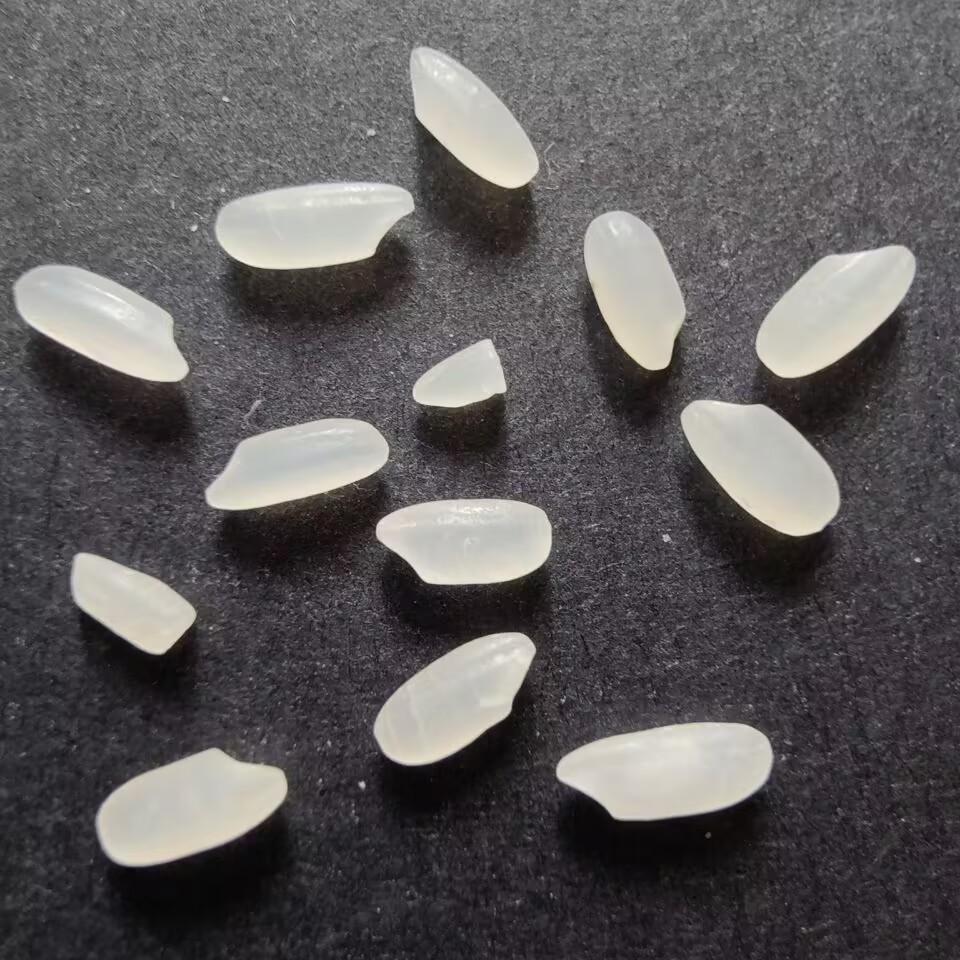broken: (66, 550, 201, 659), (408, 332, 511, 410)
rice: (549, 716, 777, 829), (92, 743, 294, 870), (673, 393, 842, 543), (371, 628, 538, 774), (751, 245, 919, 384), (9, 261, 191, 385), (405, 42, 545, 192), (209, 178, 417, 274), (198, 414, 395, 511), (581, 205, 690, 375), (369, 496, 557, 590)
